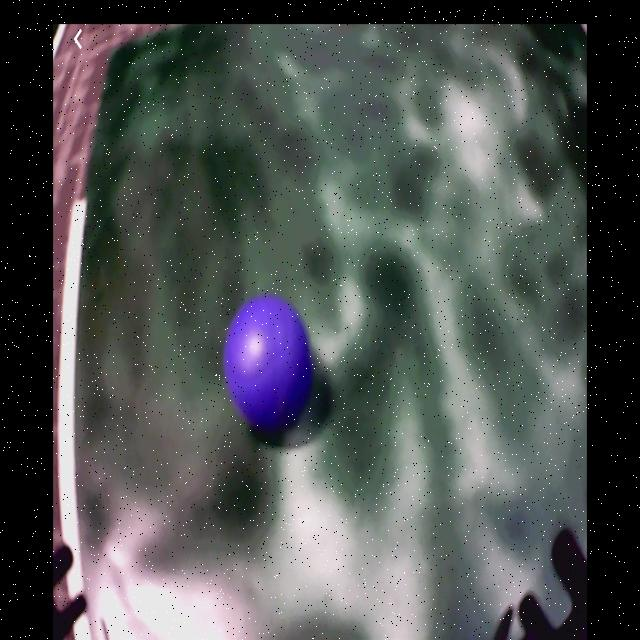ball: (226, 296, 314, 437)
